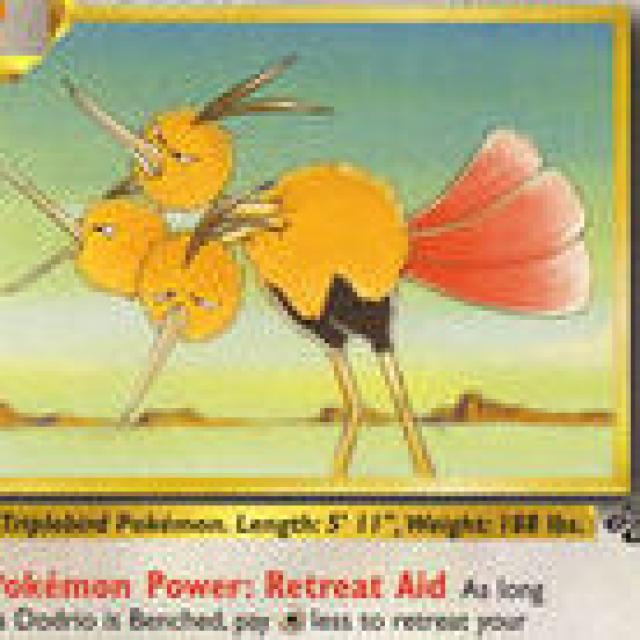Dodrio: (51, 88, 583, 424)
